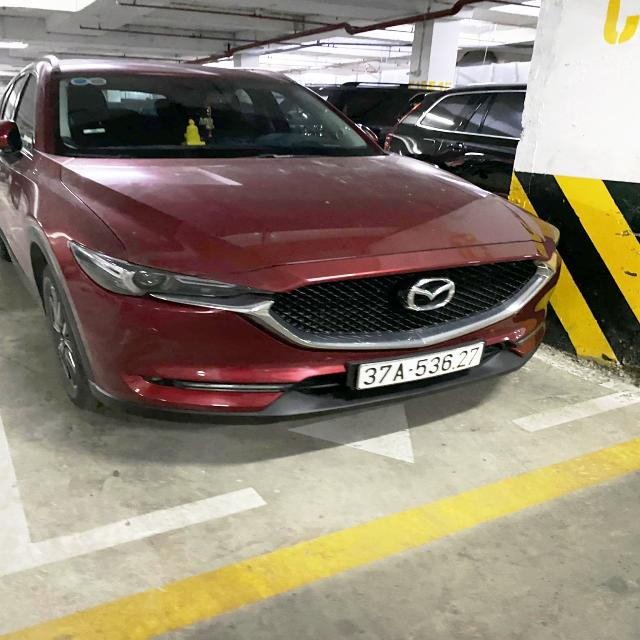license_plate: (357, 342, 486, 392)
